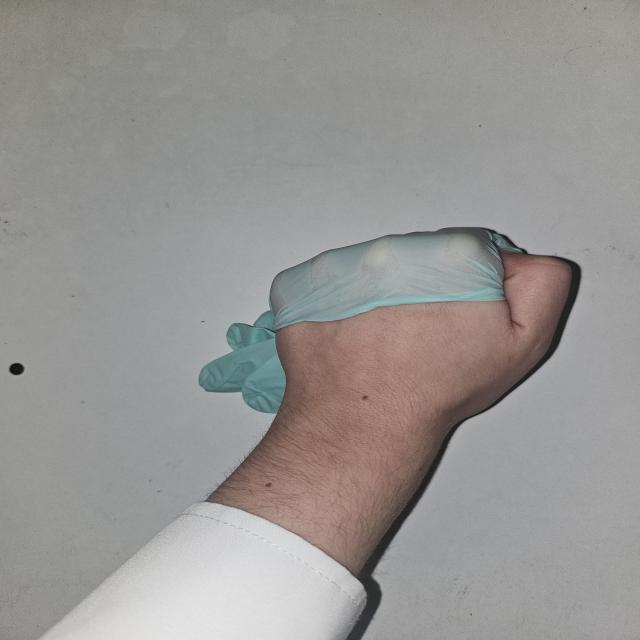glove_partial: (198, 225, 582, 457)
